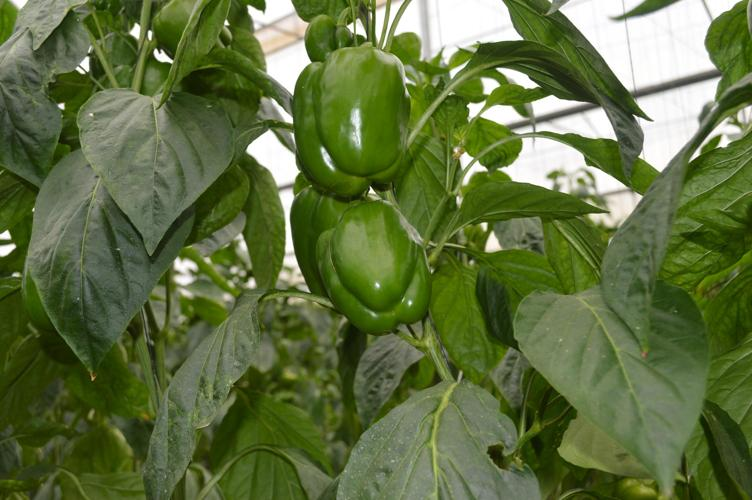BellPepper: (293, 47, 411, 192), (316, 201, 427, 330), (290, 191, 360, 297), (98, 62, 178, 98), (149, 5, 193, 53), (86, 36, 139, 72)
